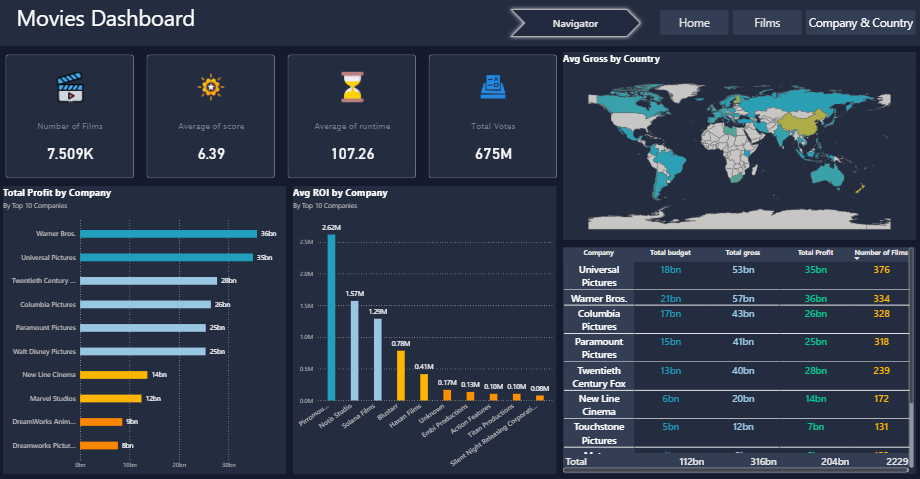

Layout of this report page (visuals, bound fields, positions):
{"tool":"powerbi","page":{"name":"Company & Country","canvas":[1820,950],"ordinal":2},"visuals":[{"type":"shape","title":"Avg ROI by Company","box":[581.4,368.6,519,567.6],"z":0},{"type":"shape","title":"Total Profit by Company","box":[9.9,368.6,557.8,567.6],"z":1000},{"type":"shape","title":"Avg Gross by Country","box":[1113.6,104.5,695.7,370.5],"z":2000},{"type":"shape","title":"Total Votes of Films","box":[1113.6,488.8,695.7,447.4],"z":3000},{"type":"shape","box":[0,0,1819.2,92.6],"z":4000},{"type":"cardVisual","fields":{"Data":["Count(movies1.name)","Avg(movies1.score)","Avg(movies1.runtime)","Sum(movies1.votes)"]},"box":[9.9,104.5,1097.8,254.3],"z":5000},{"type":"barChart","fields":{"Category":["movies1.company"],"Y":["Sum(movies1.Profit)"]},"box":[9.9,423.8,557.8,512.4],"z":6000},{"type":"tableEx","title":"Avg of gross & Avg of Profit & Avg of budget by star","fields":{"Values":["movies1.company","Sum(movies1.budget)","Sum(movies1.gross)","Sum(movies1.Profit)","movies1.name"]},"box":[1107.7,484.9,701.7,453],"z":7000},{"type":"textbox","box":[31.5,2,376.5,67],"z":8000},{"type":"shapeMap","fields":{"Category":["movies1.country"],"Value":["Avg(movies1.gross)"]},"box":[1113.6,145.9,695.7,329.1],"z":9000},{"type":"columnChart","fields":{"Category":["movies1.company"],"Y":["Avg(movies1.ROI)"]},"box":[581.4,423.8,518.4,512.4],"z":10000},{"type":"pageNavigator","box":[1304.8,21.7,136,49.3],"z":11000},{"type":"pageNavigator","box":[1448.7,21.7,136,49.3],"z":12000},{"type":"pageNavigator","box":[1592.5,21.7,216.8,49.3],"z":13000},{"type":"shape","box":[1001.2,11.8,274,71],"z":15000}]}

Visuals, with their boxes in screenshot pixels (x1, y1, x2, y2), scaled from the page's 1820x950 canvas onto the 920x479 screenshot:
"Avg ROI by Company" shape: (294,186,556,472)
"Total Profit by Company" shape: (5,186,287,472)
"Avg Gross by Country" shape: (563,53,915,239)
"Total Votes of Films" shape: (563,246,915,472)
shape: (0,0,919,47)
cardVisual - Count(movies1.name) x Avg(movies1.score): (5,53,560,181)
barChart - movies1.company x Sum(movies1.Profit): (5,214,287,472)
"Avg of gross & Avg of Profit & Avg of budget by star" tableEx: (560,244,915,473)
textbox: (16,1,206,35)
shapeMap - movies1.country x Avg(movies1.gross): (563,74,915,239)
columnChart - movies1.company x Avg(movies1.ROI): (294,214,556,472)
pageNavigator: (660,11,728,36)
pageNavigator: (732,11,801,36)
pageNavigator: (805,11,915,36)
shape: (506,6,645,42)
